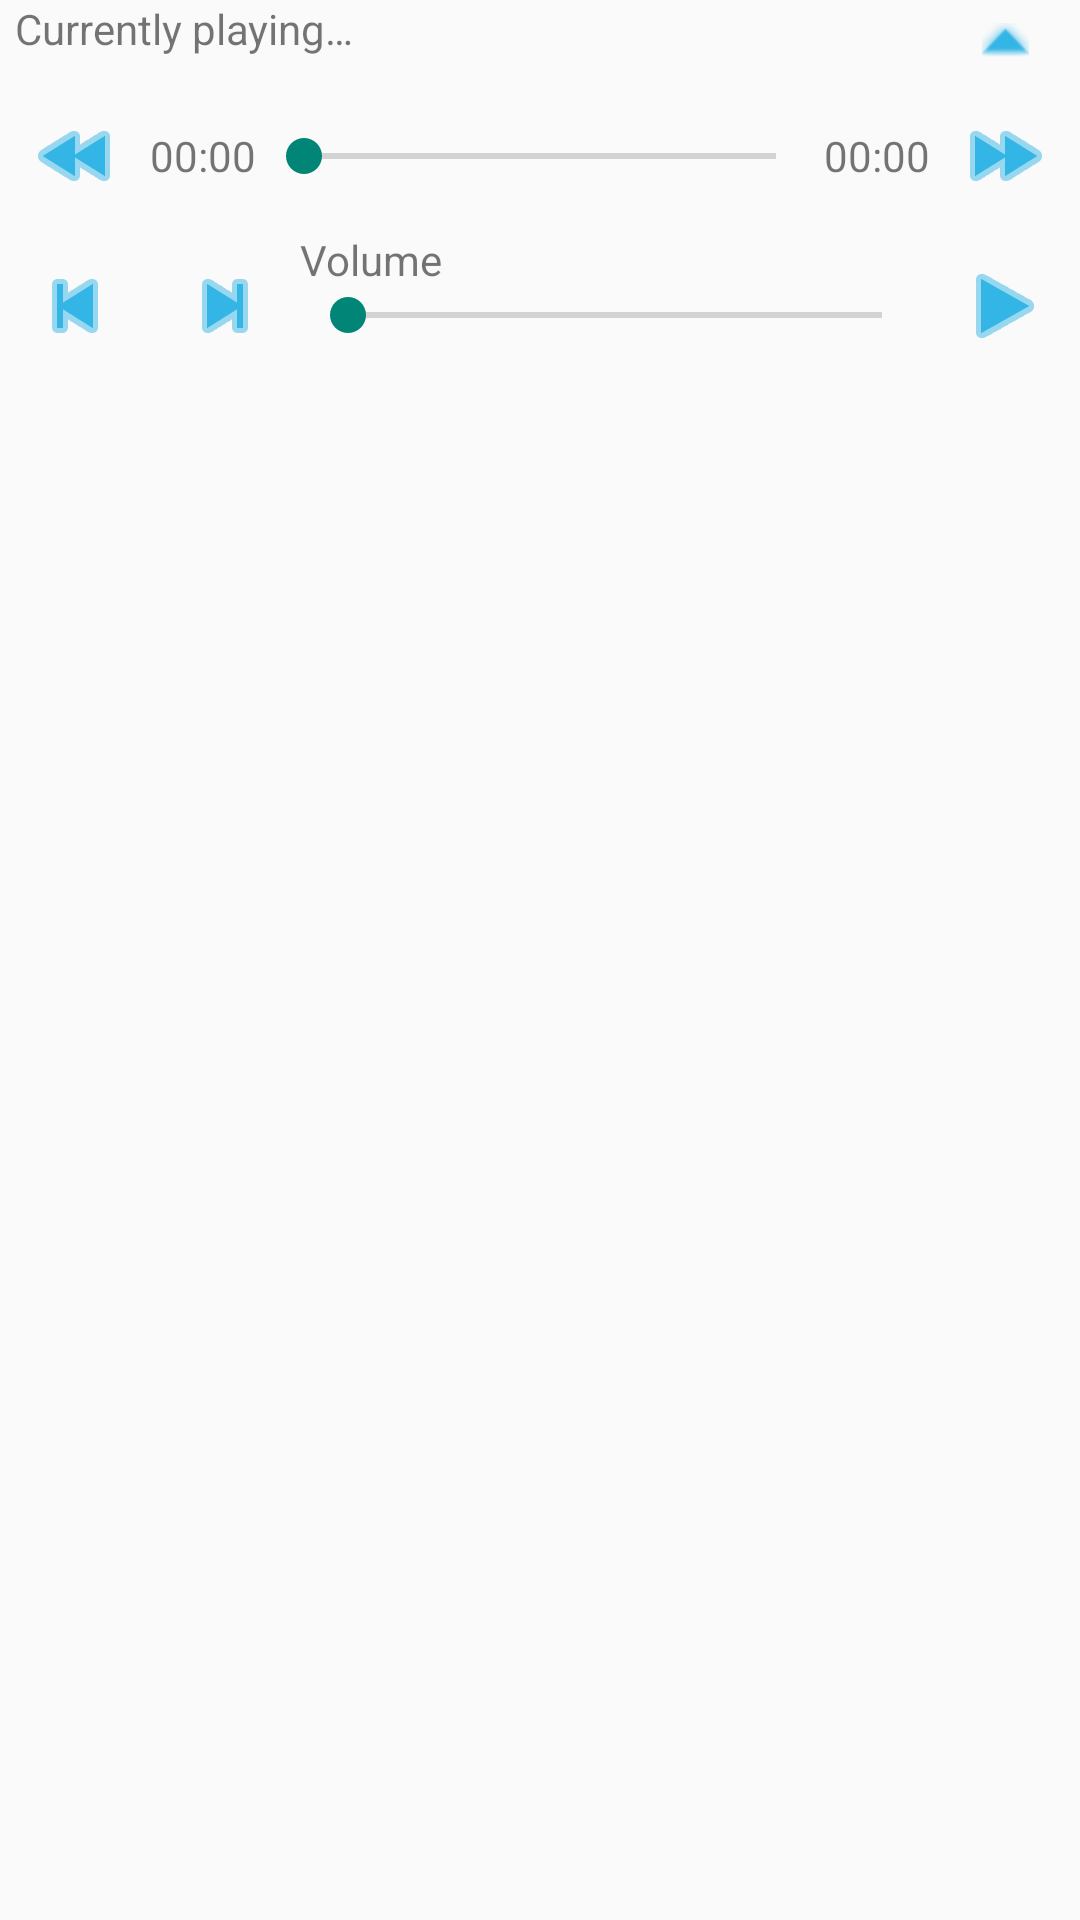

Icons on this 1080w x 1920h Android screen, each with its box as (x1, y1, x2, y2):
Jump 20 seconds forward: (970, 131, 1042, 181)
Jump 25 seconds back: (38, 131, 110, 181)
Play next: (202, 279, 248, 333)
Play previous: (52, 279, 98, 333)
Play/Pause: (976, 274, 1034, 338)
See more options: (982, 25, 1029, 56)
